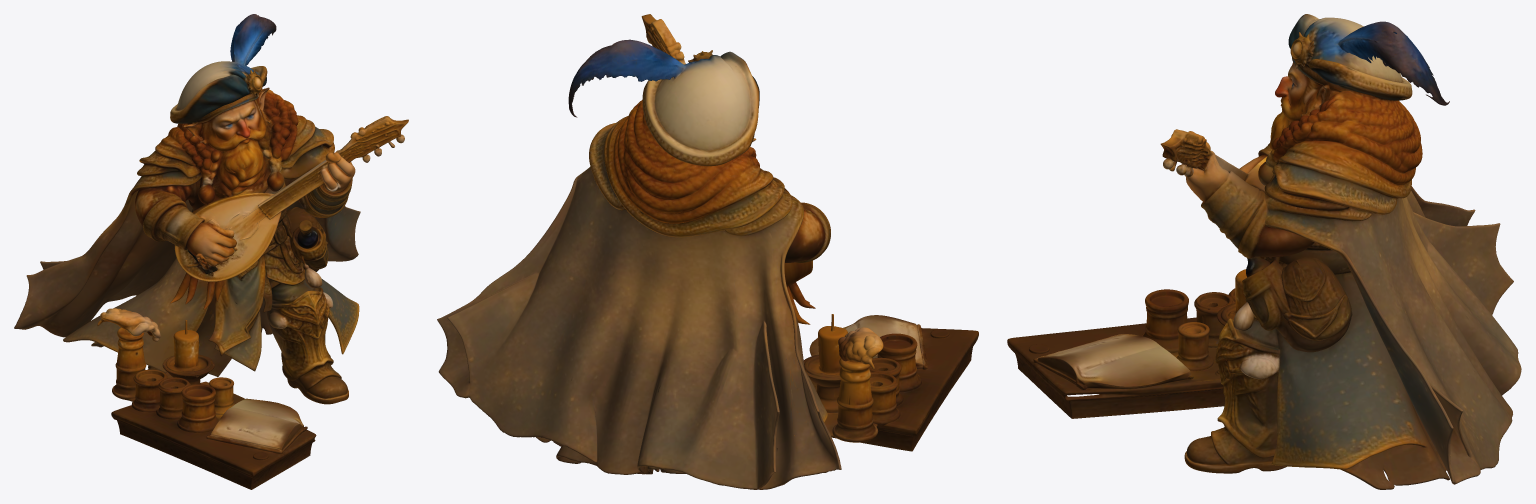
Rendered from dwarf_bard_full_male_01.glb.
3 renders of one model, left to right at view 1: azimuth 30°, elevation 25°; view 2: azimuth 150°, elevation 25°; view 3: azimuth 270°, elevation 25°, orthographic. The views are drawn at different scales.
Parts seen in each view (by area): view 1: material; view 2: material; view 3: material.
Boxes of the visible parts, <box> form: material: <box>14,14,408,489</box>; material: <box>437,14,978,489</box>; material: <box>1007,14,1521,489</box>.
Size of the model in its own units: 0.8092 by 0.7597 by 0.8131.
1 material, 1 textured.
